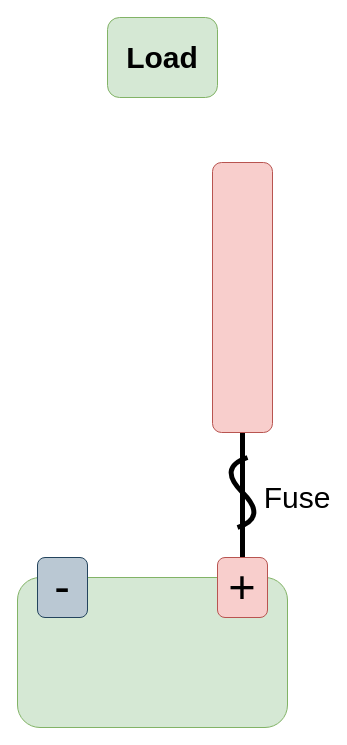
Some shapes in this 347 by 745 pixel diagram are drawn without their labels. Each missing label, with the box of its shape:
Battery 5-60v: (16, 576, 288, 728)
PWR Tool 500: (212, 162, 272, 432)
